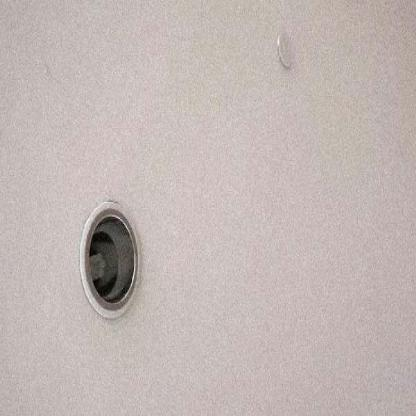light_off: (49, 171, 152, 328)
